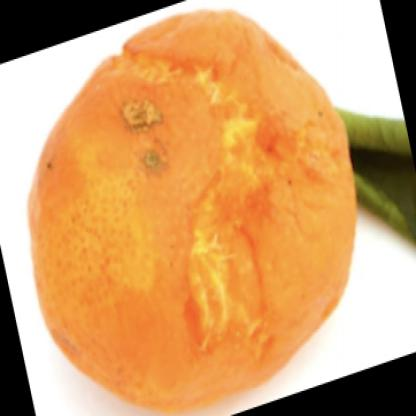rotten_orange: (22, 3, 364, 413)
